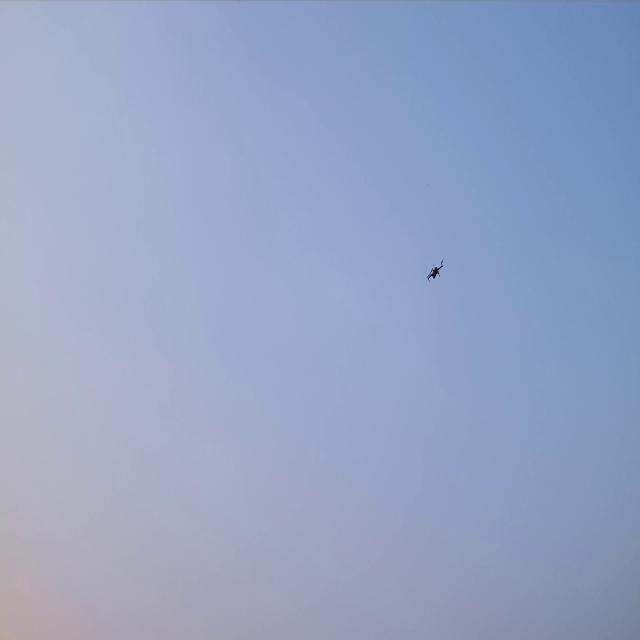UAV: (426, 257, 444, 283)
